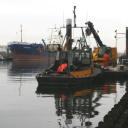tugboat: (36, 27, 107, 89)
